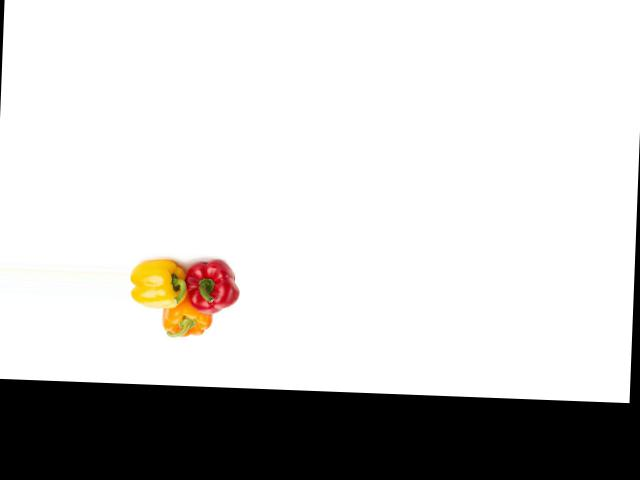bell_pepper: (129, 253, 185, 310)
